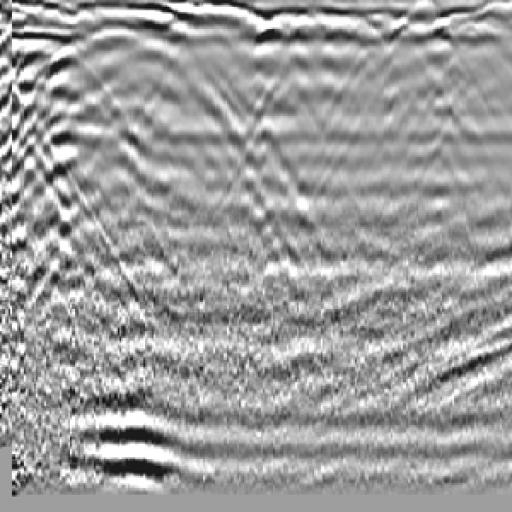non-metallic: (1, 36, 170, 255)
